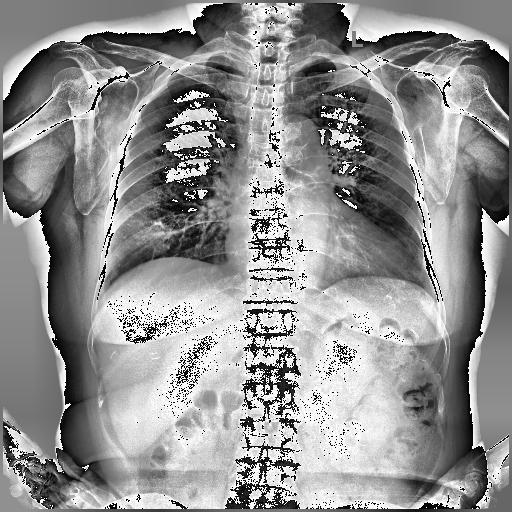0- Aortic enlargement: (273, 117, 326, 174), (270, 116, 324, 165), (278, 113, 320, 169)
13- Pulmonary fibrosis: (308, 69, 350, 99)
3- Cardiomegaly: (222, 216, 412, 284), (223, 226, 414, 278), (222, 227, 406, 280)
9- Other lesion: (308, 69, 350, 99)
